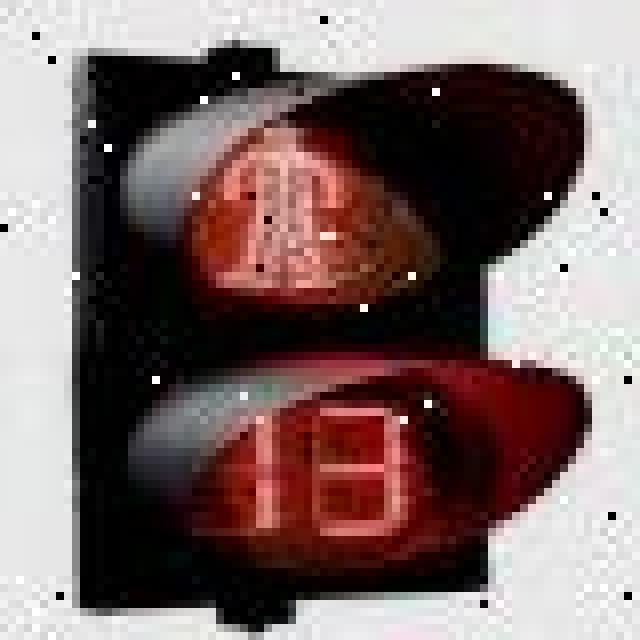redlight: (89, 39, 545, 356)
